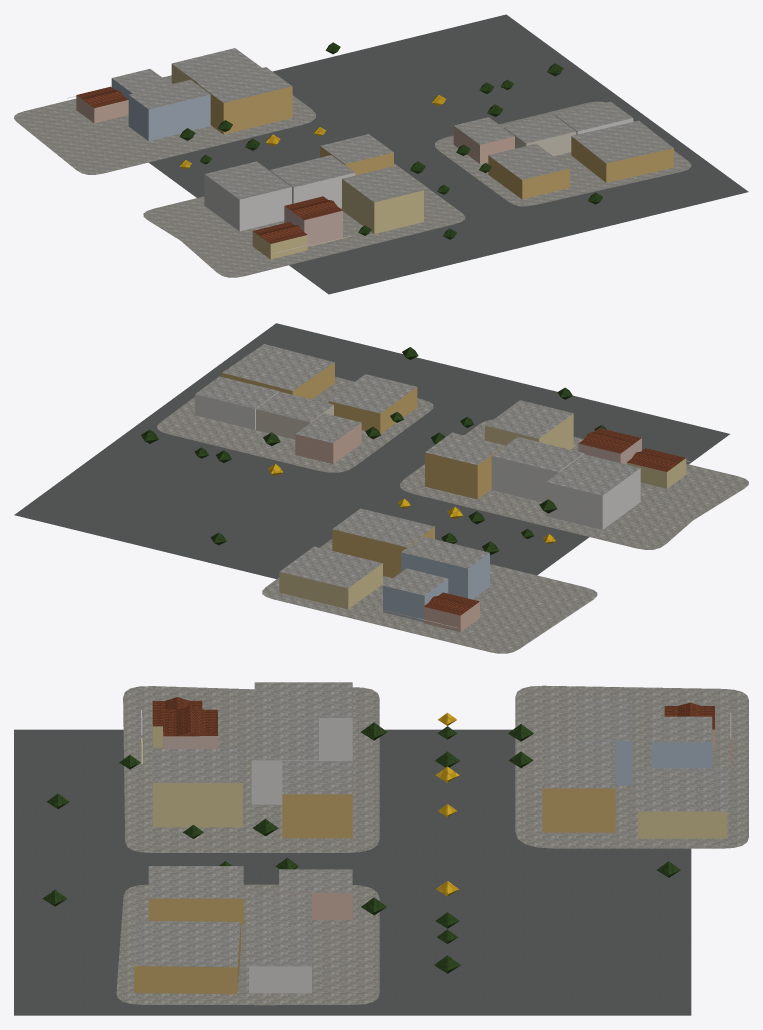
The model's file is cidade_S02_02_lod.gltf.
3 renders of one model, top to bottom at view 1: azimuth 30°, elevation 25°; view 2: azimuth 150°, elevation 25°; view 3: azimuth 270°, elevation 25°, orthographic. The views are drawn at different scales.
Parts seen in each view (by area): view 1: S02_02_Chao_LOD2, S02_02_Edificios_LOD1, S02_02_Silhueta_LOD2, S02_02_Vegetacao_LOD2; view 2: S02_02_Chao_LOD2, S02_02_Edificios_LOD1, S02_02_Vegetacao_LOD2, S02_02_Silhueta_LOD2; view 3: S02_02_Chao_LOD2, S02_02_Edificios_LOD1, S02_02_Vegetacao_LOD2, S02_02_Silhueta_LOD2.
Boxes of the visible parts, x1,y1,x2,y2 form: S02_02_Chao_LOD2: (14, 14, 748, 294); S02_02_Edificios_LOD1: (67, 48, 673, 259); S02_02_Silhueta_LOD2: (76, 86, 342, 258); S02_02_Vegetacao_LOD2: (179, 42, 602, 239); S02_02_Chao_LOD2: (14, 323, 748, 653); S02_02_Edificios_LOD1: (195, 344, 689, 631); S02_02_Vegetacao_LOD2: (141, 347, 606, 554); S02_02_Silhueta_LOD2: (423, 428, 686, 631); S02_02_Chao_LOD2: (14, 685, 748, 1015); S02_02_Edificios_LOD1: (134, 682, 731, 994); S02_02_Vegetacao_LOD2: (42, 712, 680, 973); S02_02_Silhueta_LOD2: (152, 700, 714, 750).
Bounding box in the file's own units: 115 × 7.37 × 109.
Materials: 16 (16 with a texture image).
